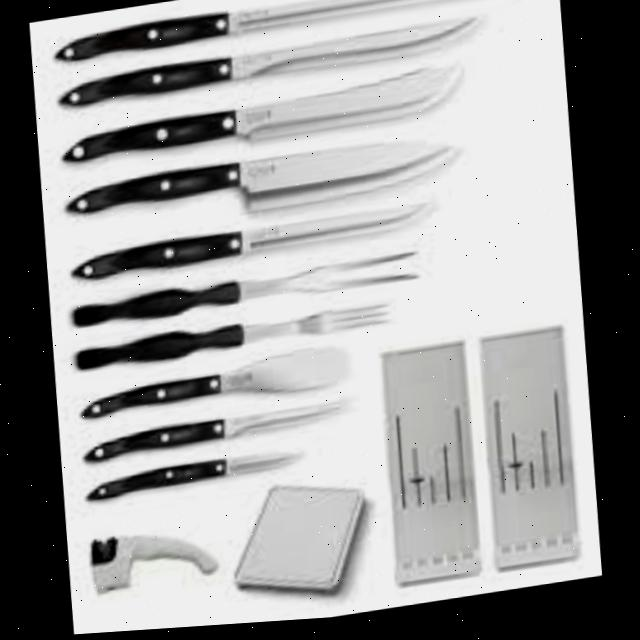knife: (59, 65, 467, 169), (56, 18, 485, 109), (65, 132, 458, 221), (53, 0, 520, 63), (69, 202, 435, 282), (73, 254, 423, 331), (74, 303, 395, 374), (80, 346, 351, 423), (83, 404, 344, 462), (87, 449, 304, 502)
